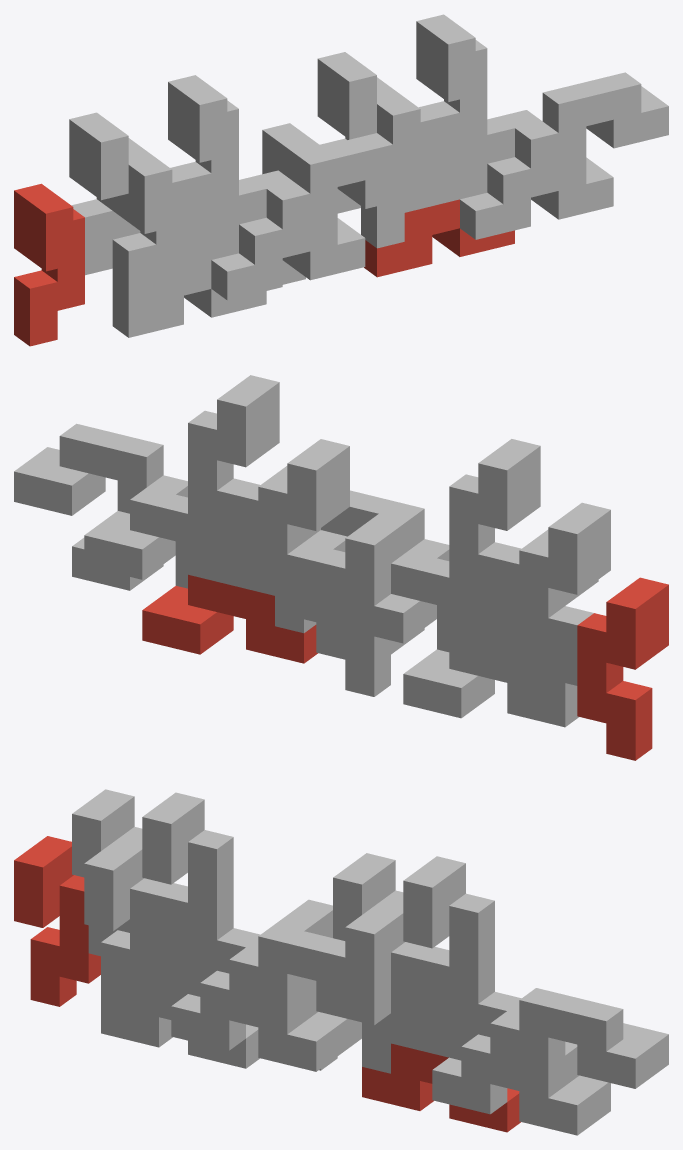
Rendered from tiling.obj.
3 renders of one model, top to bottom at view 1: azimuth 30°, elevation 25°; view 2: azimuth 150°, elevation 25°; view 3: azimuth 330°, elevation 25°, orthographic. The views are drawn at different scales.
Visible parts, largest first — view 1: copy_2_domain_8, copy_1_domain_1, copy_2_domain_4, copy_1_domain_2, copy_1_domain_8, copy_2_domain_2, copy_2_domain_6, copy_1_domain_4, copy_1_domain_3, copy_1_domain_6, copy_2_domain_1, copy_2_domain_5 (+4 smaller); view 2: copy_1_domain_1, copy_1_domain_3, copy_1_domain_7, copy_1_domain_4, copy_1_domain_8, copy_1_domain_5, copy_2_domain_8, copy_2_domain_7, copy_2_domain_1, copy_2_domain_5, copy_2_domain_3, copy_2_domain_4 (+4 smaller); view 3: copy_1_domain_8, copy_1_domain_4, copy_2_domain_8, copy_2_domain_6, copy_1_domain_1, copy_2_domain_2, copy_1_domain_2, copy_2_domain_4, copy_1_domain_6, copy_2_domain_5, copy_2_domain_1, copy_1_domain_3 (+4 smaller).
Part boxes in pixels (x1,y1,x2,y2): copy_2_domain_8: (515,72,668,168); copy_1_domain_1: (14,183,84,346); copy_2_domain_4: (266,133,420,229); copy_1_domain_2: (112,146,183,308); copy_1_domain_8: (416,14,487,176); copy_2_domain_2: (211,216,365,300); copy_2_domain_6: (460,155,613,239); copy_1_domain_4: (168,75,238,237); copy_1_domain_3: (69,112,140,275); copy_1_domain_6: (361,85,432,248); copy_2_domain_1: (112,260,266,337); copy_2_domain_5: (364,199,514,277); copy_1_domain_1: (577,577,668,760); copy_1_domain_3: (519,502,610,685); copy_1_domain_7: (258,439,349,621); copy_1_domain_4: (449,439,540,621); copy_1_domain_8: (188,375,279,558); copy_1_domain_5: (316,514,407,696); copy_2_domain_8: (14,423,187,515); copy_2_domain_7: (84,487,245,588); copy_2_domain_1: (403,638,578,727); copy_2_domain_5: (142,574,317,663); copy_2_domain_3: (345,551,507,652); copy_2_domain_4: (304,490,449,560); copy_1_domain_8: (403,856,494,1026); copy_1_domain_4: (142,792,233,963); copy_2_domain_8: (490,988,668,1088); copy_2_domain_6: (432,1034,610,1135); copy_1_domain_1: (14,836,100,1006); copy_2_domain_2: (171,970,349,1071); copy_1_domain_2: (84,839,175,1009); copy_2_domain_4: (229,924,390,1025); copy_1_domain_6: (345,903,436,1073); copy_2_domain_5: (362,1043,520,1132); copy_2_domain_1: (101,980,259,1068); copy_1_domain_3: (72,789,142,956).
Bounding box in the file's own units: 22 × 8 × 3.
